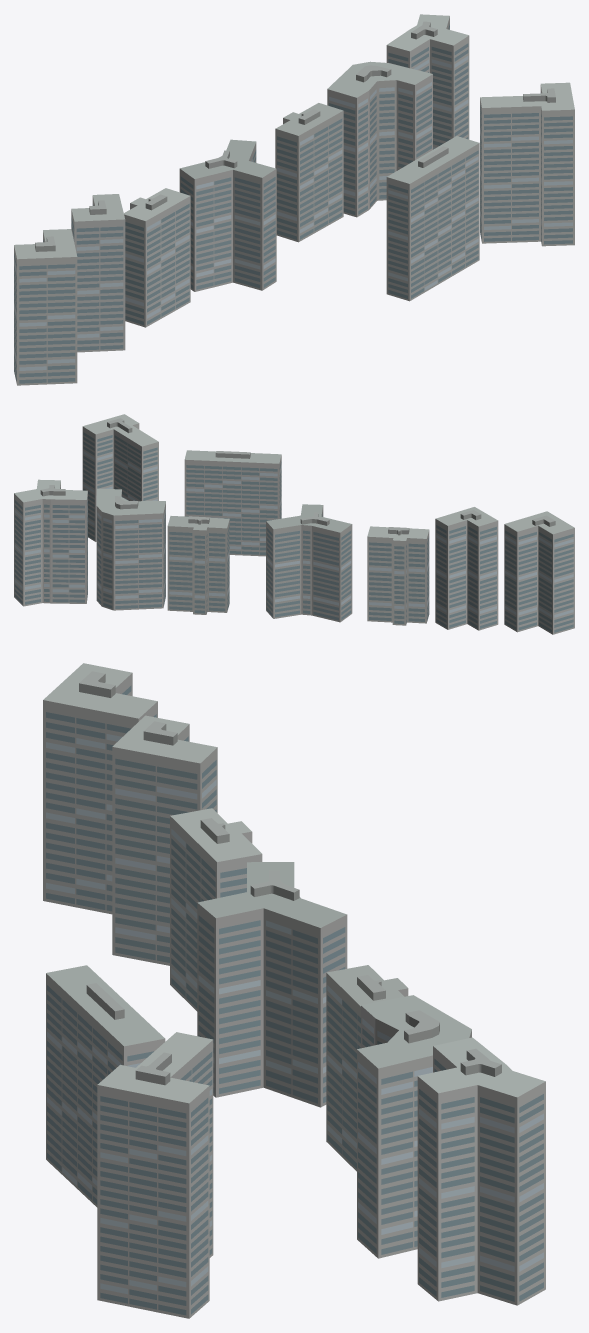
The model's file is apt-a13585404.glb.
The picture shows the model from 3 angles, top to bottom: view 1: azimuth 30°, elevation 25°; view 2: azimuth 150°, elevation 25°; view 3: azimuth 270°, elevation 25°; orthographic projection. The views are drawn at different scales.
Parts seen in each view (by area): view 1: apt-a13585404; view 2: apt-a13585404; view 3: apt-a13585404.
Boxes of the visible parts, box(x1,y1,x2,y2) form: apt-a13585404: box(14, 14, 574, 385); apt-a13585404: box(14, 414, 574, 634); apt-a13585404: box(43, 663, 545, 1318).
Size of the model in its own units: 270 by 62 by 126.
